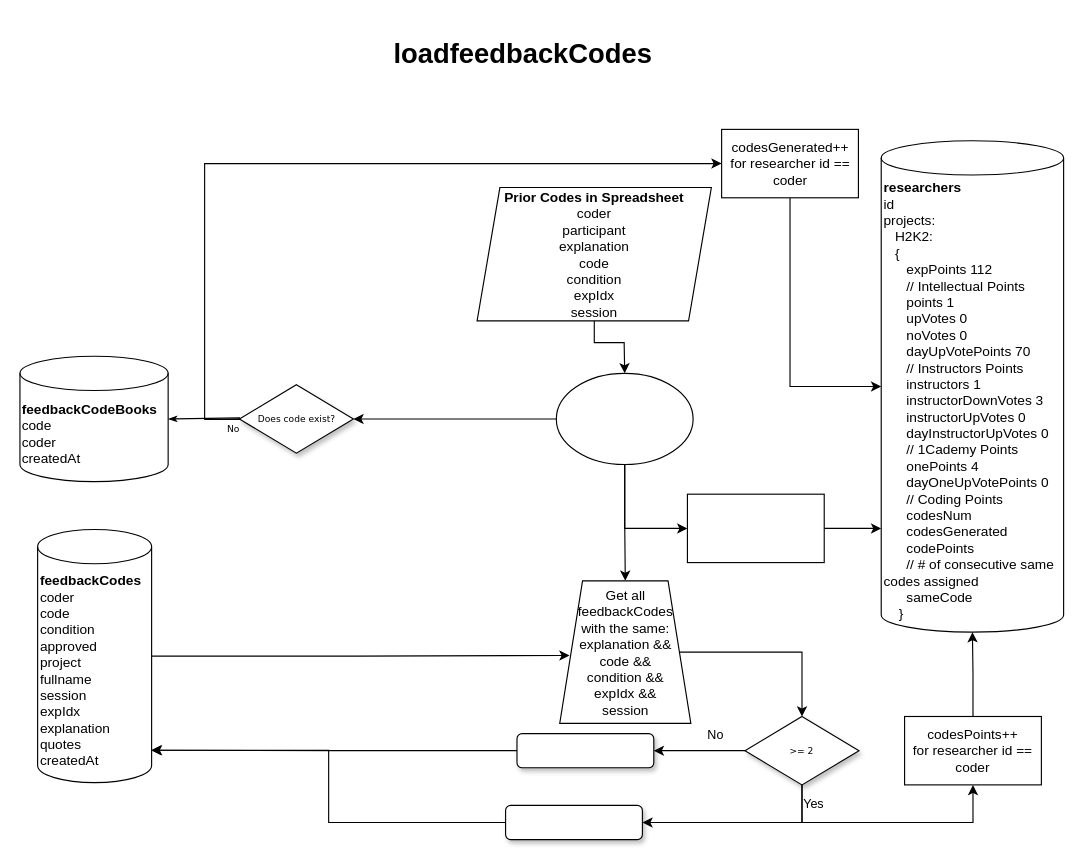
The diagram is 1084 pixels wide and 868 high, and some of its shapes have lost their labels. The centre of each missing label's shape, as x and y in pixels:
codesNum++ for researcher id == coder: (x=755, y=528)
For every prior code: (x=624, y=418)
Set approved = false and the rest of the fields: (x=586, y=752)
Set approved = true and the rest of the fields as a new document: (x=574, y=824)
